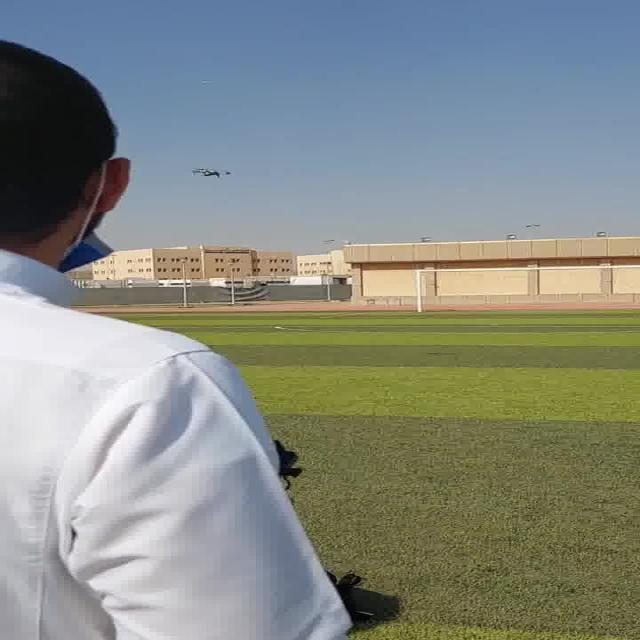drone: (182, 166, 240, 180)
